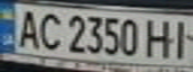0: (118, 16, 142, 57)
2: (63, 11, 87, 54)
3: (81, 12, 106, 55)
5: (103, 15, 124, 56)
A: (12, 7, 42, 50)
C: (36, 10, 63, 51)
H: (142, 16, 178, 60)
I: (169, 17, 193, 60)
